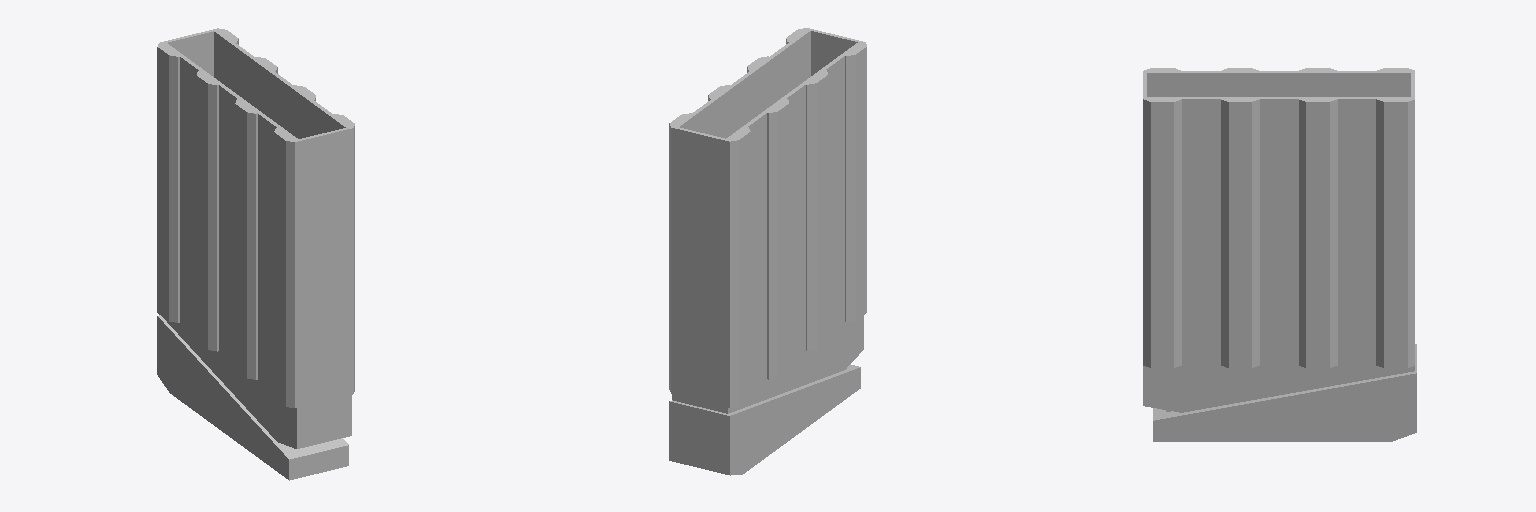
The model's file is Mag2.obj.
3 views of the same model, side by side, from view 1: azimuth 30°, elevation 25°; view 2: azimuth 150°, elevation 25°; view 3: azimuth 270°, elevation 25° (orthographic).
Visible parts, largest first — view 1: Cube.015; view 2: Cube.015; view 3: Cube.015.
Part boxes in pixels (left/top/right/bottom): Cube.015: left=157, top=28, right=354, bottom=480; Cube.015: left=669, top=28, right=866, bottom=475; Cube.015: left=1143, top=68, right=1416, bottom=441.
Bounding box in the file's own units: 0.1251 × 0.5887 × 0.4272.